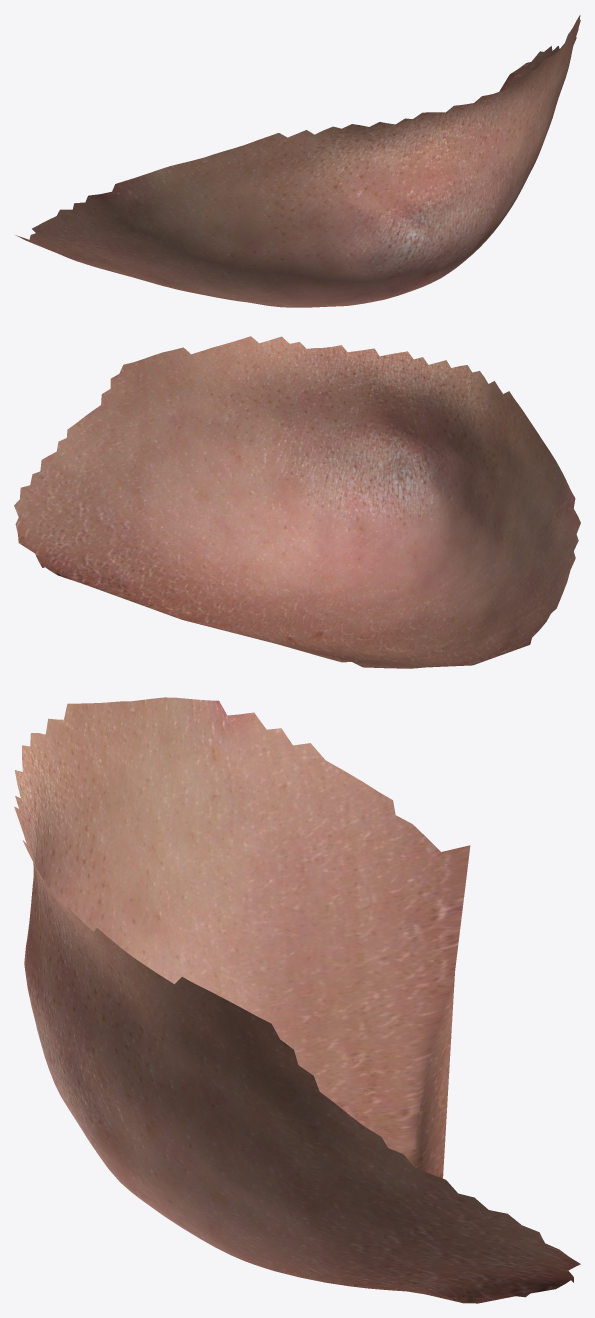
Rendered from chin05.obj.
The picture shows the model from 3 angles, top to bottom: view 1: azimuth 30°, elevation 25°; view 2: azimuth 150°, elevation 25°; view 3: azimuth 270°, elevation 25°; orthographic projection. The views are drawn at different scales.
Visible parts, largest first — view 1: default; view 2: default; view 3: default.
Boxes of the visible parts, bbox=[...] form: default: bbox=[15, 15, 580, 307]; default: bbox=[14, 336, 580, 668]; default: bbox=[14, 697, 580, 1303].
Size of the model in its own units: 60.46 by 26.1 by 32.11.
Materials: 1 (1 with a texture image).
